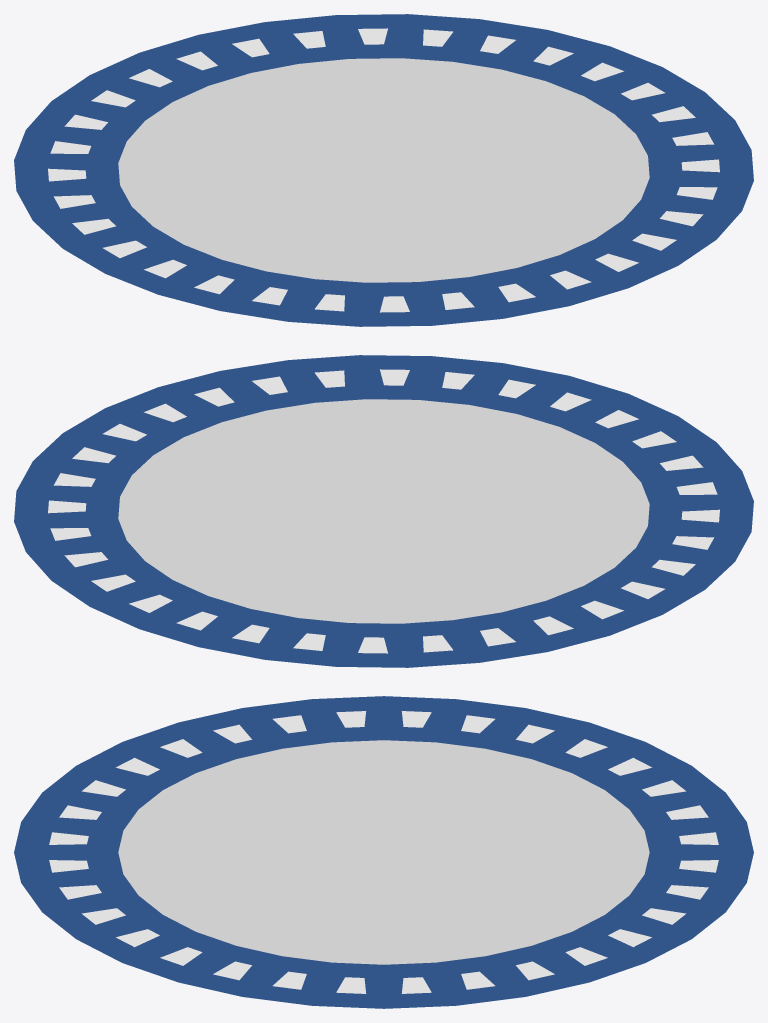
File: Spot.fbx
3 renders of one model, top to bottom at view 1: azimuth 30°, elevation 25°; view 2: azimuth 150°, elevation 25°; view 3: azimuth 270°, elevation 25°, orthographic.
Parts seen in each view (by area): view 1: Circle; view 2: Circle; view 3: Circle.
Part boxes in pixels (x1=…): Circle: x1=14, y1=14, x2=753, y2=326; Circle: x1=14, y1=355, x2=753, y2=667; Circle: x1=14, y1=696, x2=753, y2=1008.
Size of the model in its own units: 200 by 3.26e-05 by 200.
